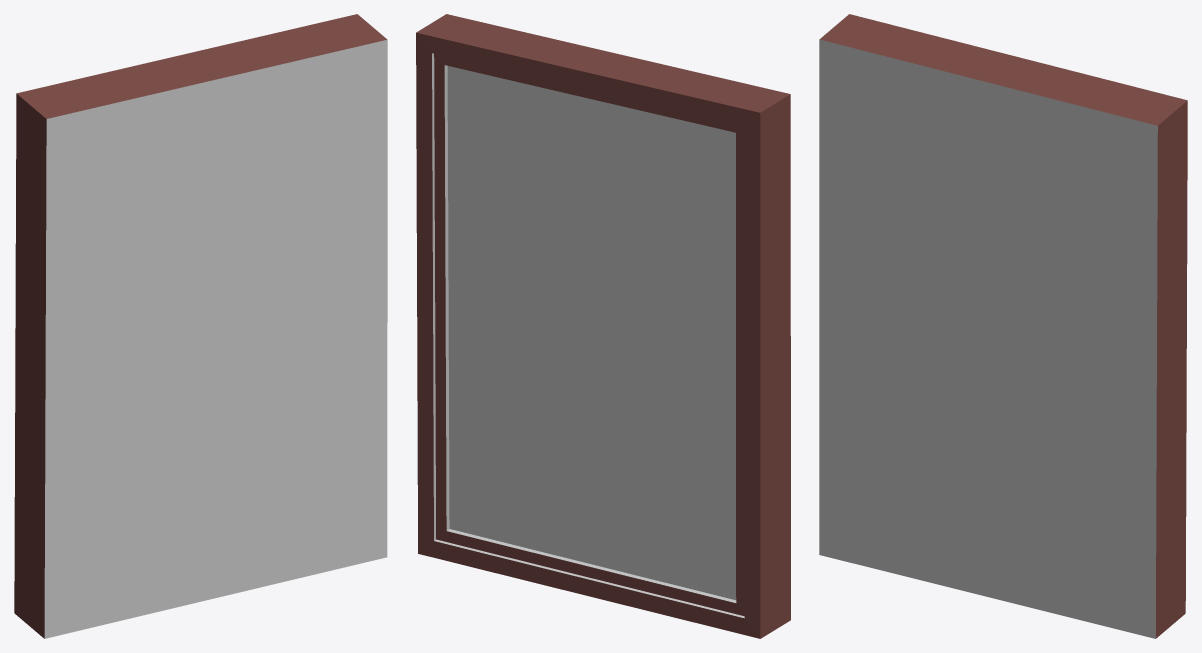
The model's file is espejo cuadrado01.fbx.
3 views of the same model, side by side, from view 1: azimuth 30°, elevation 25°; view 2: azimuth 150°, elevation 25°; view 3: azimuth 330°, elevation 25° (orthographic).
Visible parts, largest first — view 1: Cube.010; view 2: Cube.010; view 3: Cube.010.
Boxes of the visible parts, bbox=[...] form: Cube.010: bbox=[14, 14, 387, 638]; Cube.010: bbox=[416, 14, 790, 638]; Cube.010: bbox=[819, 14, 1187, 638].
Size of the model in its own units: 164 by 241 by 26.64.
